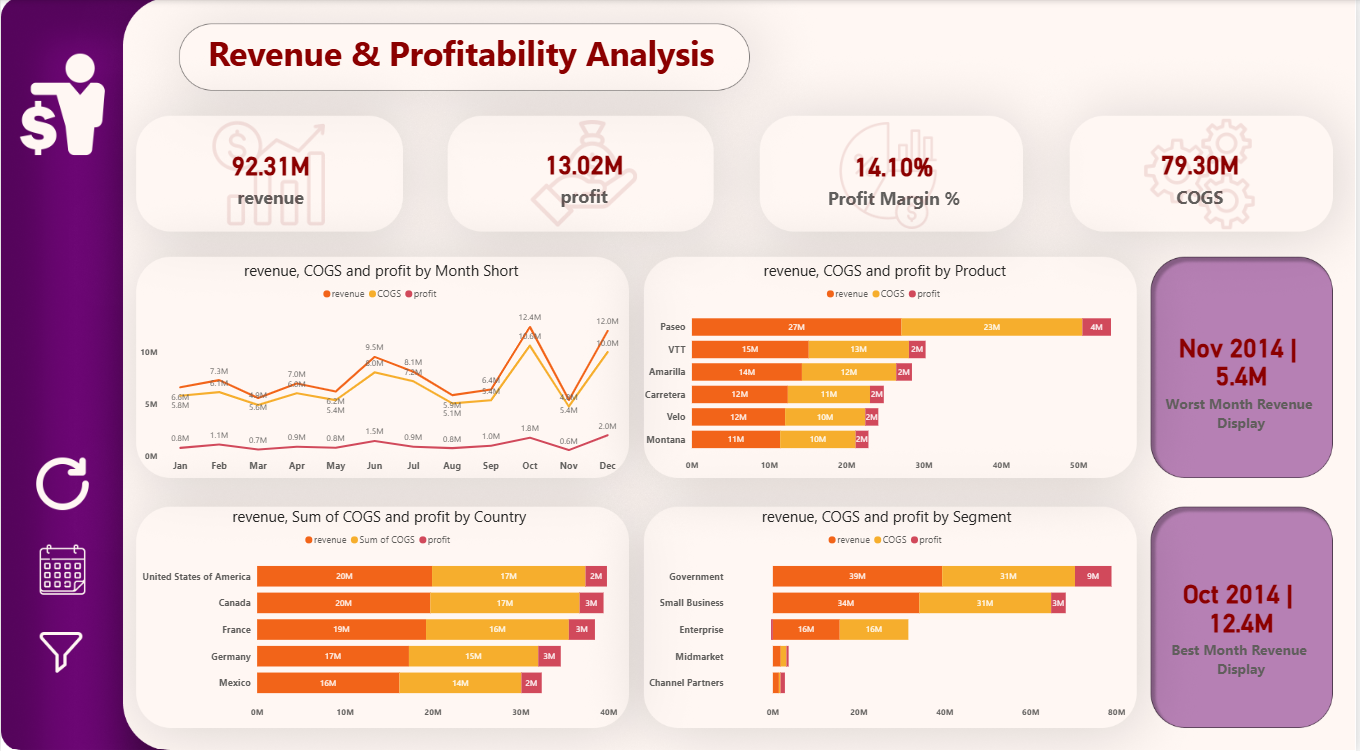

The dashboard page shown, as its layout file describes it:
{"tool":"powerbi","page":{"name":"Duplicate of BUSINESS PERFORMANCE","canvas":[1940,1080],"ordinal":0},"visuals":[{"type":"lineChart","fields":{"Y":["_Measure.revenue","_Measure.COGS","_Measure.profit"],"Category":["Dim_Date.Month Short"]},"box":[193.8,372.5,702.5,313.8],"z":0},{"type":"card","fields":{"Values":["_Measure.Best Month Display"]},"box":[1646.7,725,260,314.2],"z":1000},{"type":"barChart","fields":{"Y":["_Measure.revenue","Sum(financials.COGS)","_Measure.profit"],"Category":["financials.Country"]},"box":[195,725,692.5,313.8],"z":2000},{"type":"card","fields":{"Values":["_Measure.Worst Month Display"]},"box":[1646.7,372.5,260,313.3],"z":3000},{"type":"barChart","fields":{"Y":["_Measure.revenue","_Measure.COGS","_Measure.profit"],"Category":["financials.Product"]},"box":[915,371.2,701.2,312.5],"z":4000},{"type":"barChart","fields":{"Y":["_Measure.revenue","_Measure.COGS","_Measure.profit"],"Category":["financials.Segment"]},"box":[922.5,725,693.8,313.8],"z":5000},{"type":"image","box":[43.9,896.4,86,73],"z":6000},{"type":"card","fields":{"Values":["_Measure.revenue"]},"box":[193.4,169.7,384.6,163.3],"z":7000},{"type":"image","box":[44.4,655.6,86.1,75],"z":8000},{"type":"card","fields":{"Values":["_Measure.profit"]},"box":[642.4,167.6,384.6,163.3],"z":9000},{"type":"textbox","box":[256,36,820,92],"z":10000},{"type":"card","fields":{"Values":["_Measure.Profit Margin %"]},"box":[1091.5,171.9,373.9,161.1],"z":11000},{"type":"card","fields":{"Values":["_Measure.COGS"]},"box":[1527.6,169.7,378.2,161.1],"z":12000},{"type":"image","box":[12.5,65,150,170],"z":13000},{"type":"image","box":[193.4,167.6,380.3,161.1],"z":14000},{"type":"image","box":[642.4,171.9,384.6,152.5],"z":15000},{"type":"image","box":[1527.6,167.6,378.2,163.3],"z":16000},{"type":"image","box":[1076.4,169.7,388.9,163.3],"z":17000},{"type":"image","box":[44.4,780.6,86.1,72.2],"z":19000}]}

Visuals, with their boxes in screenshot pixels (x1, y1, x2, y2), scaled from the page's 1940x1080 canvas onto the 1360x751 screenshot:
lineChart - _Measure.revenue x _Measure.COGS: BBox(136, 259, 628, 477)
card - _Measure.Best Month Display: BBox(1154, 504, 1337, 723)
barChart - _Measure.revenue x Sum(financials.COGS): BBox(137, 504, 622, 722)
card - _Measure.Worst Month Display: BBox(1154, 259, 1337, 477)
barChart - _Measure.revenue x _Measure.COGS: BBox(641, 258, 1133, 475)
barChart - _Measure.revenue x _Measure.COGS: BBox(647, 504, 1133, 722)
image: BBox(31, 623, 91, 674)
card - _Measure.revenue: BBox(136, 118, 405, 232)
image: BBox(31, 456, 91, 508)
card - _Measure.profit: BBox(450, 117, 720, 230)
textbox: BBox(179, 25, 754, 89)
card - _Measure.Profit Margin %: BBox(765, 120, 1027, 232)
card - _Measure.COGS: BBox(1071, 118, 1336, 230)
image: BBox(9, 45, 114, 163)
image: BBox(136, 117, 402, 229)
image: BBox(450, 120, 720, 226)
image: BBox(1071, 117, 1336, 230)
image: BBox(755, 118, 1027, 232)
image: BBox(31, 543, 91, 593)
